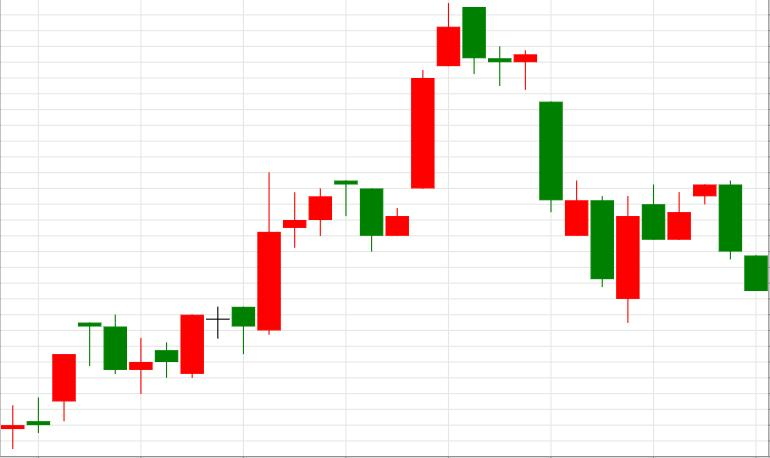bullish_engulfing_rise: (462, 7, 640, 322)
evening_star_fall: (258, 172, 383, 335), (1, 313, 127, 449)
